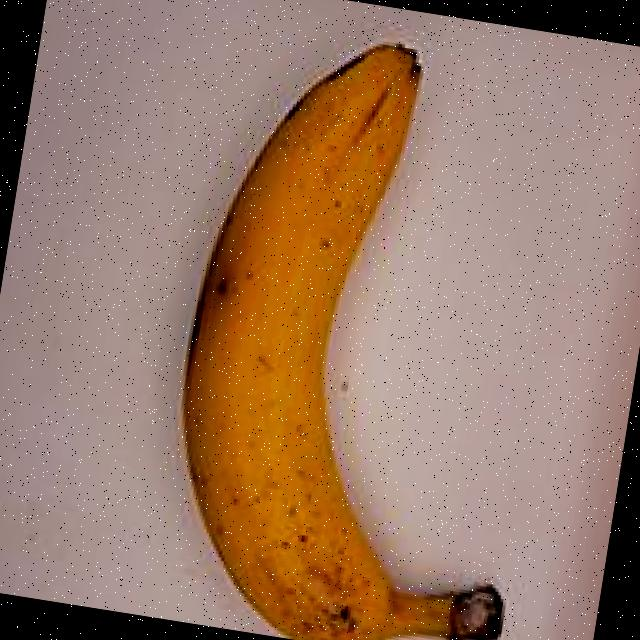Ripe: (47, 0, 636, 640)
